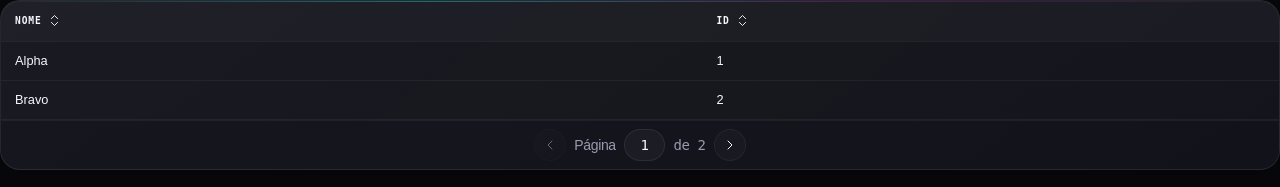
it: INFRA-01: DataTable › paginação respeita pageSize e "Próxima página" avança a currentPage
This screenshot has width=1280, height=187.
Expected: the number of rows with class "data-table__row" is 2, [1,41,1279,80]; [1,80,1279,120]
Expected: the text "Charlie" is not shown
Step 1. Click the button named "Próxima página" → (730,145), box [714,129,746,161]
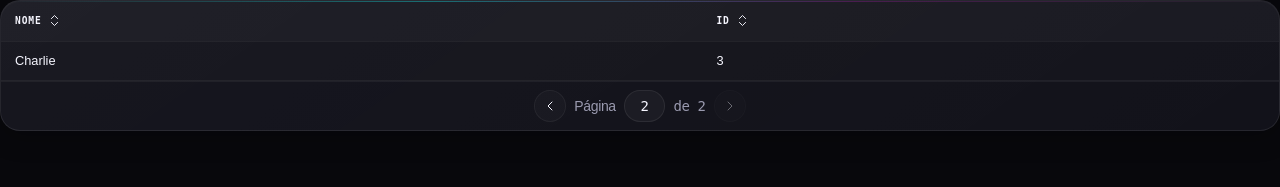
Expected: the number of rows with class "data-table__row" is 1, [1,41,1279,80]
Expected: the text "Charlie" is shown, [1,41,702,80]
